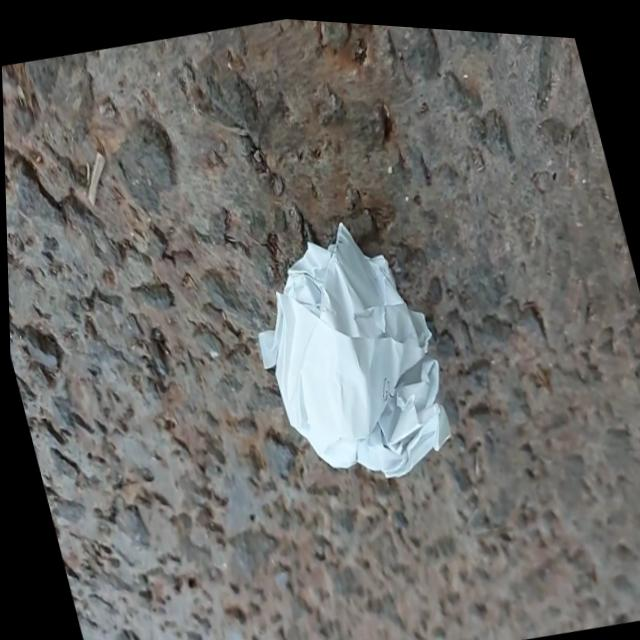paper: (259, 224, 448, 476)
